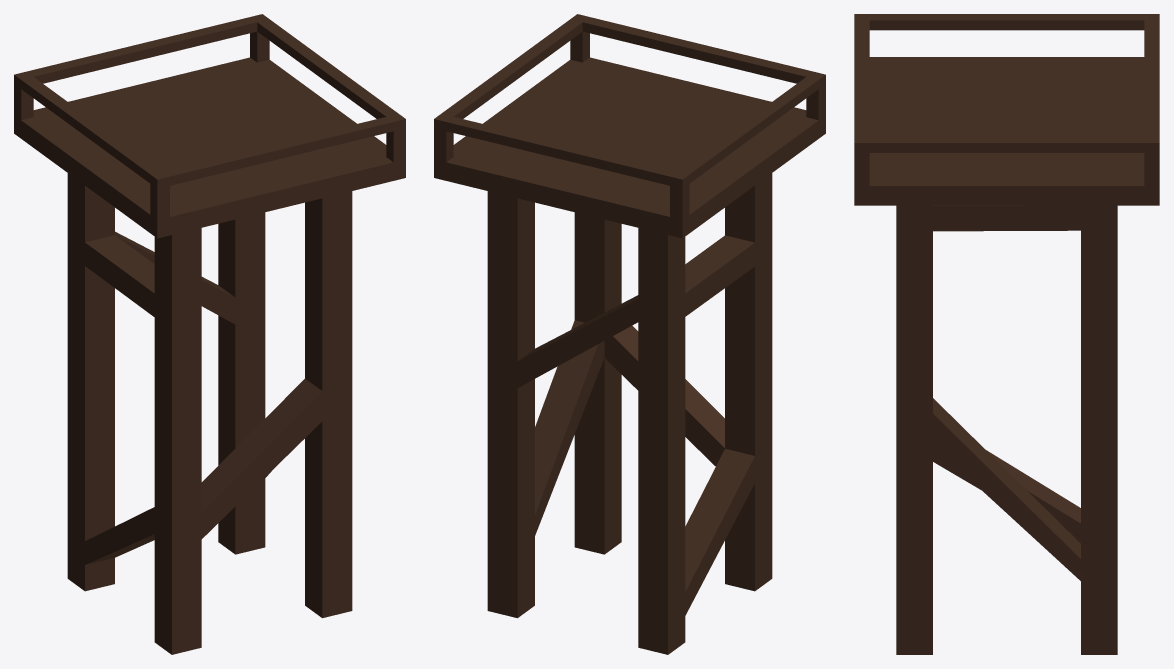
Rendered from Tower.fbx.
3 renders of one model, left to right at view 1: azimuth 30°, elevation 25°; view 2: azimuth 150°, elevation 25°; view 3: azimuth 270°, elevation 25°, orthographic. The views are drawn at different scales.
Visible parts, largest first — view 1: Cube; view 2: Cube; view 3: Cube.
Boxes of the visible parts, left/top/right/bottom form: Cube: left=14, top=14, right=405, bottom=654; Cube: left=434, top=14, right=825, bottom=654; Cube: left=854, top=14, right=1159, bottom=654.
Size of the model in its own units: 76.93 by 147 by 76.93.
